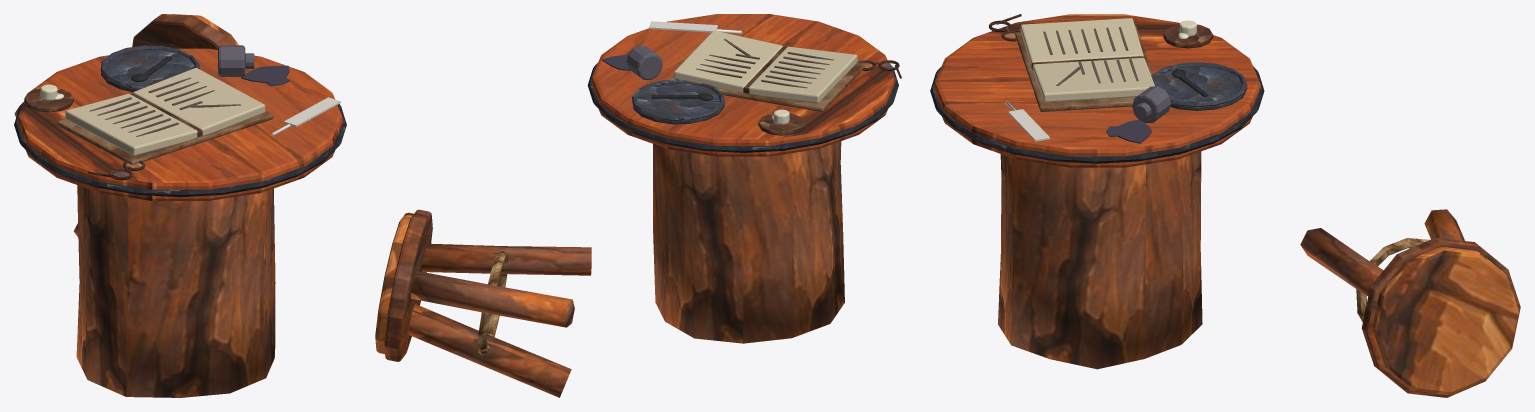
The model's file is op_diary_table.glb.
3 views of the same model, side by side, from view 1: azimuth 30°, elevation 25°; view 2: azimuth 150°, elevation 25°; view 3: azimuth 270°, elevation 25° (orthographic). The views are drawn at different scales.
Visible parts, largest first — view 1: model; view 2: model; view 3: model.
Part boxes in pixels (<box>): model: <box>14,14,346,397</box>; model: <box>375,14,901,397</box>; model: <box>930,14,1520,397</box>.
Size of the model in its own units: 0.9445 by 0.678 by 1.3.
22 materials, 13 textured.
